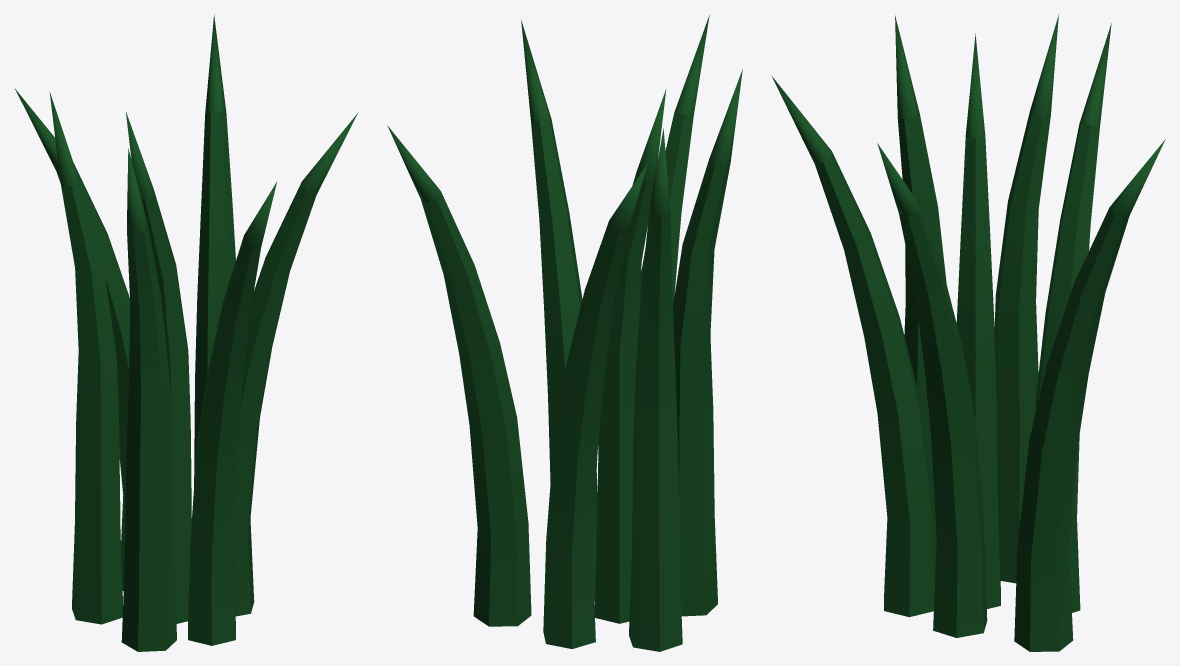
File: Env_LongGrass.obj
3 views of the same model, side by side, from view 1: azimuth 30°, elevation 25°; view 2: azimuth 150°, elevation 25°; view 3: azimuth 270°, elevation 25° (orthographic). The views are drawn at different scales.
Parts seen in each view (by area): view 1: pCylinder3; view 2: pCylinder3; view 3: pCylinder3.
Part boxes in pixels (x1,y1,x2,y2): pCylinder3: (15, 14, 358, 651); pCylinder3: (387, 15, 742, 651); pCylinder3: (772, 14, 1165, 651).
Bounding box in the file's own units: 82.3 × 173 × 114.
